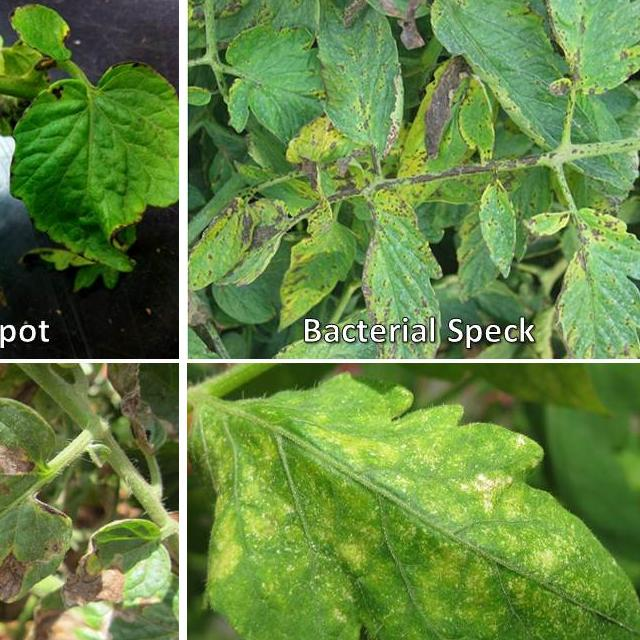Tomato leaf bacterial spot: (0, 50, 179, 314), (0, 391, 89, 640), (521, 189, 640, 356), (204, 13, 348, 146), (295, 8, 411, 172), (352, 175, 436, 356), (275, 183, 358, 350), (199, 195, 294, 308), (448, 65, 501, 172), (0, 62, 10, 340)
